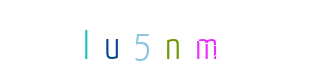5: (117, 0, 197, 80)
L: (65, 0, 145, 80)
M: (166, 0, 246, 80)
N: (132, 0, 212, 80)
U: (89, 0, 169, 80)
